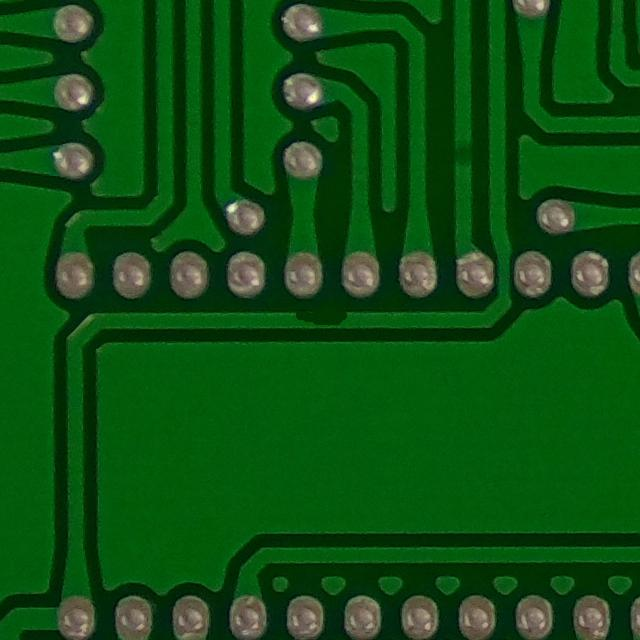mouse_bite: (281, 304, 359, 337)
